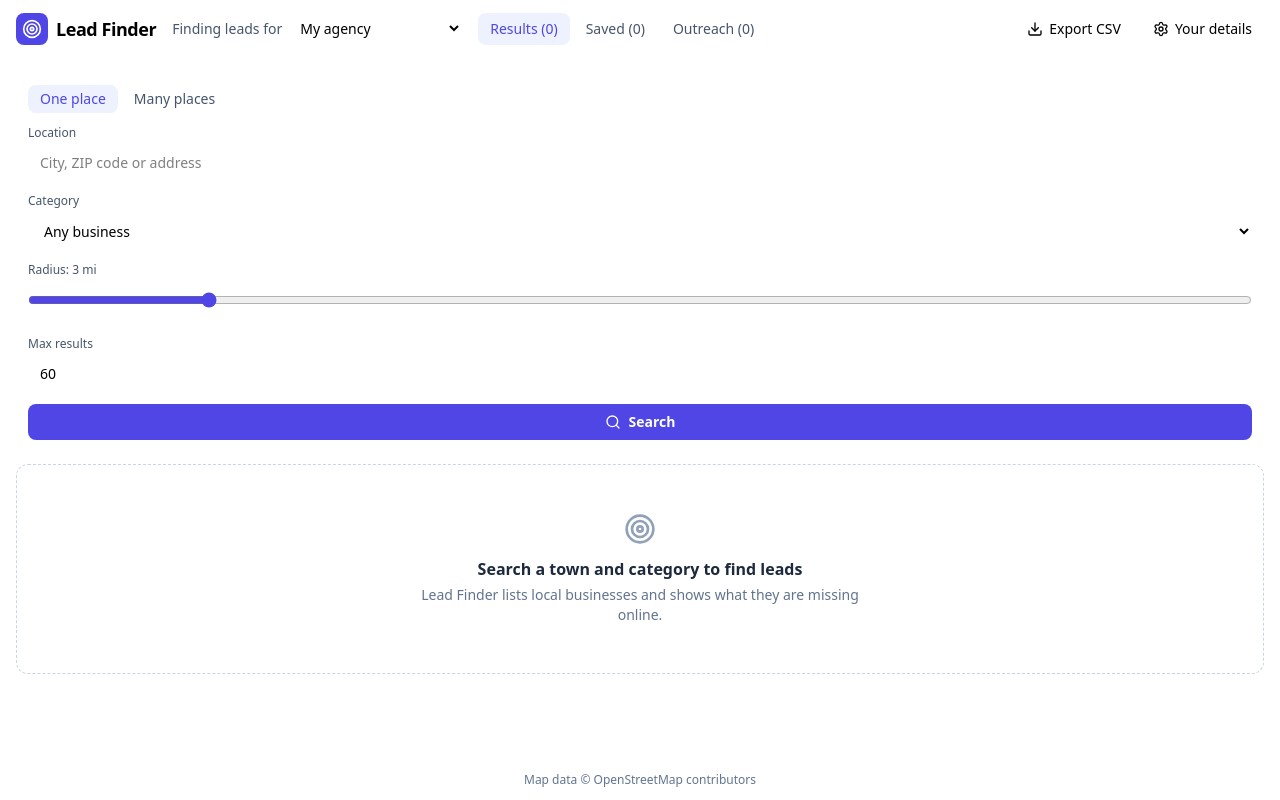
Scenario: first run and search flow › shows the server error message (not the demo offer) for a JSON 404
The width and height of the screenshot is (1280, 800).
Type "Austin" into the field labelled "Location".
click(640, 163); type("Austin")  # box [28,145,1252,181]
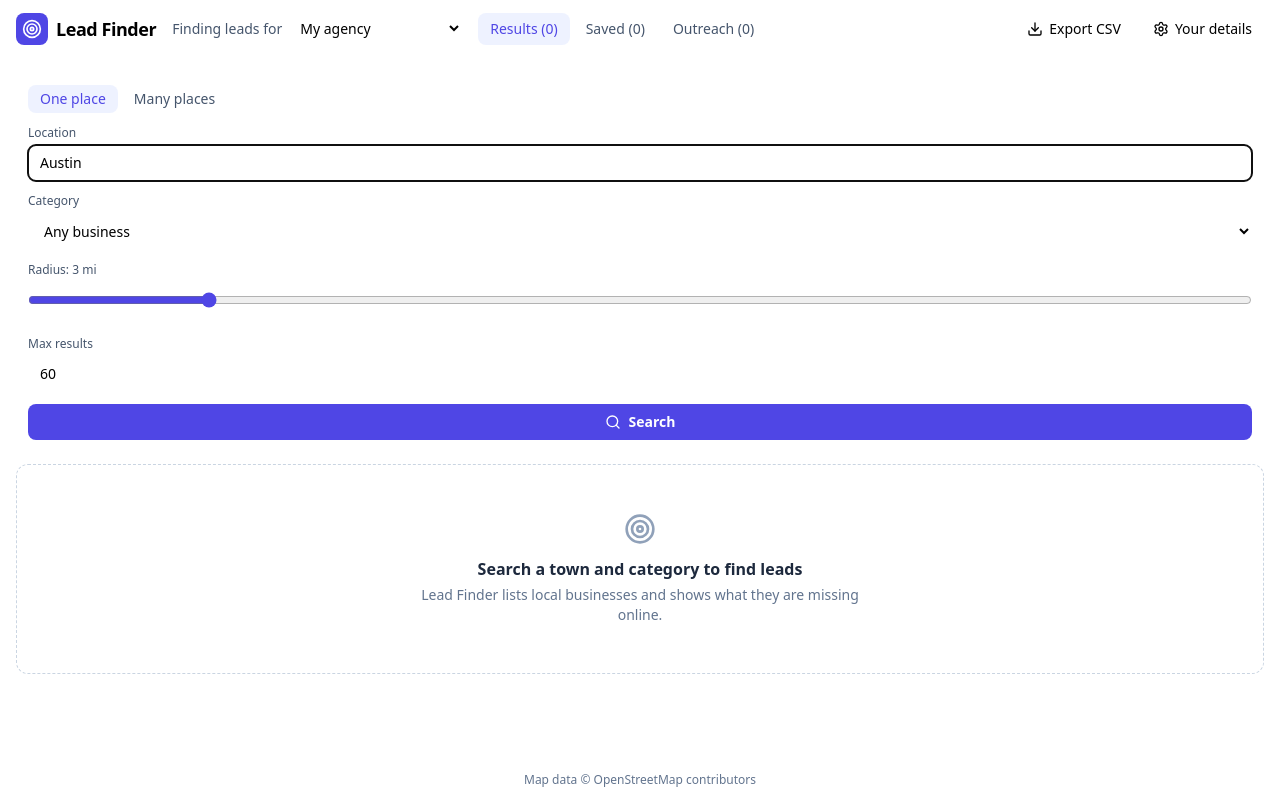
Click the button "Search".
click(640, 422)  # box [28,404,1252,440]
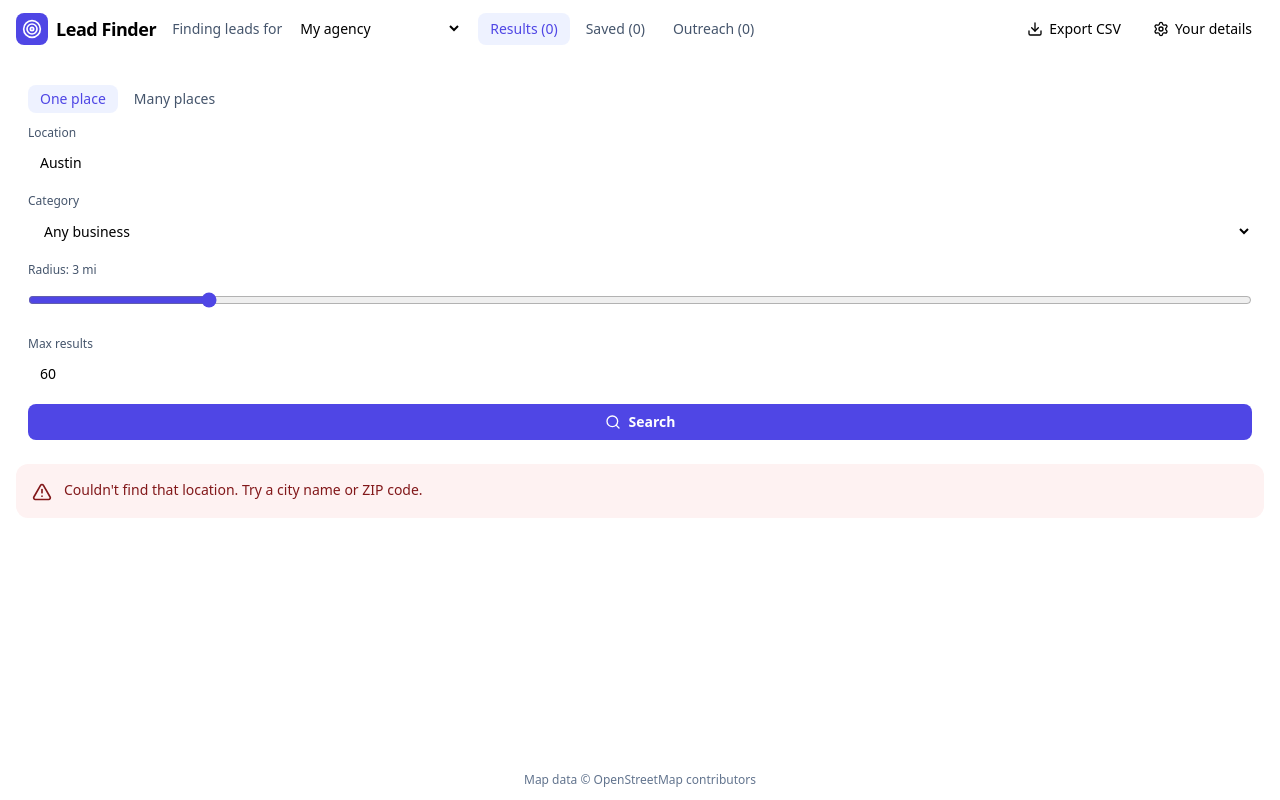
Expected: the text "Couldn't find that location. Try a city name or ZIP code." is shown, [64,480,423,500]
